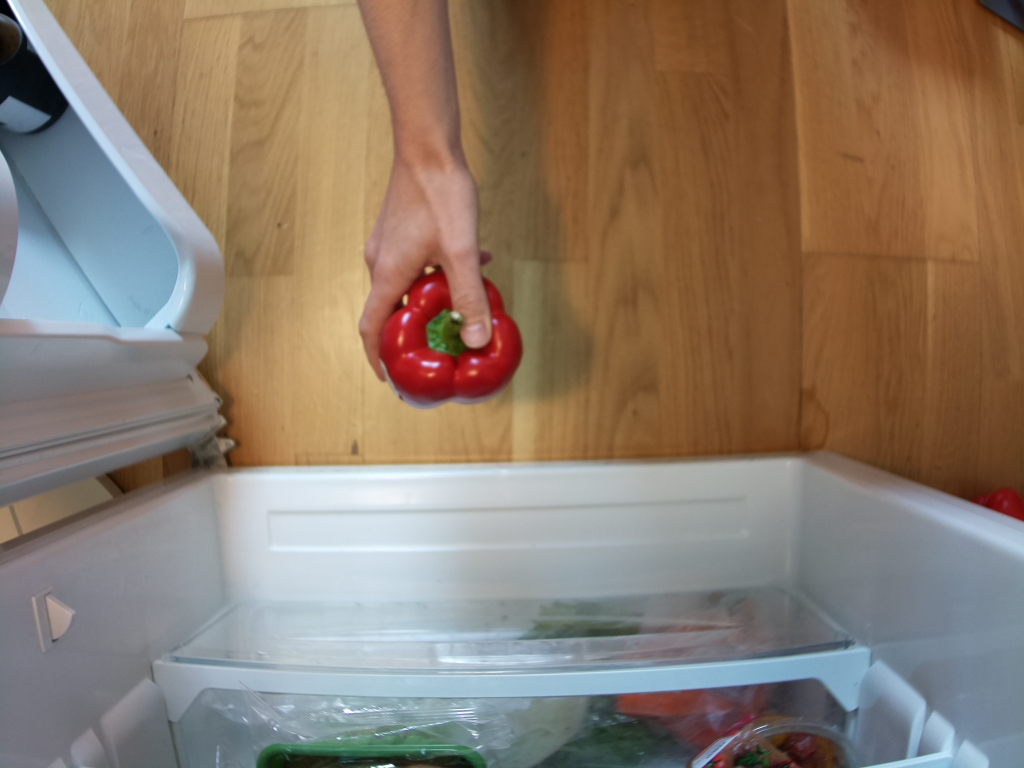pepper: (381, 270, 525, 406)
